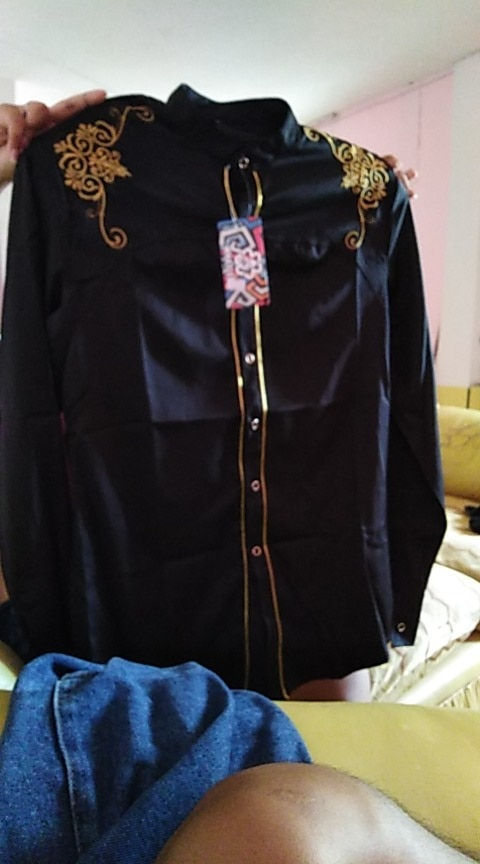shirts: (15, 89, 426, 664)
